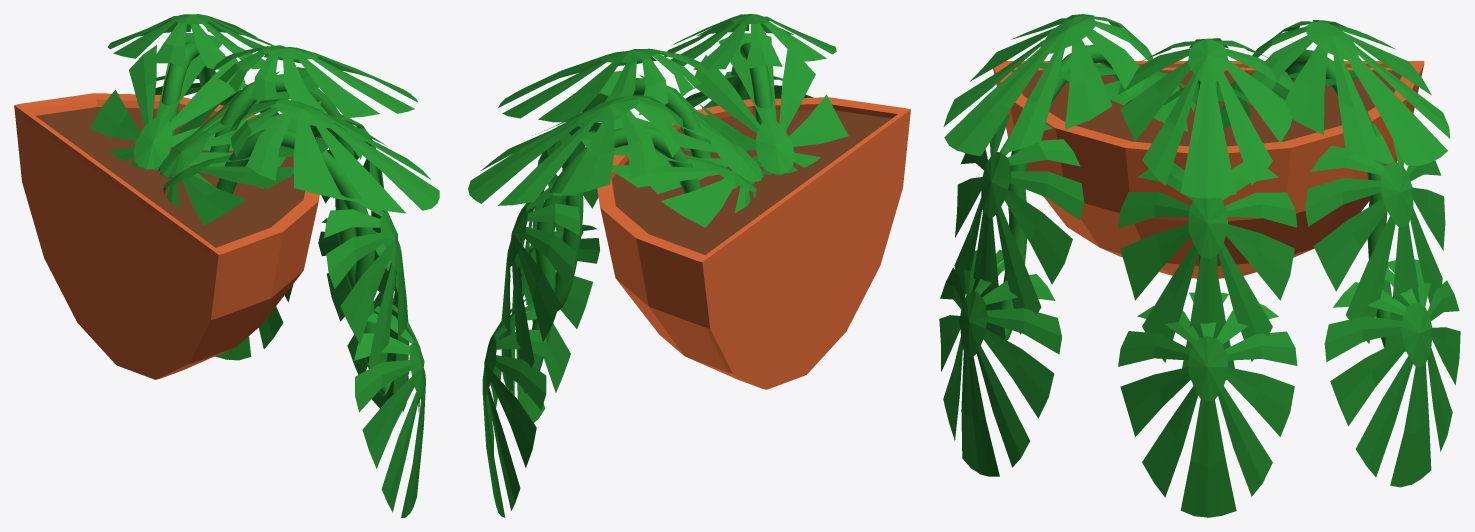
Rendered from Monstera.glb.
3 renders of one model, left to right at view 1: azimuth 30°, elevation 25°; view 2: azimuth 150°, elevation 25°; view 3: azimuth 270°, elevation 25°, orthographic. The views are drawn at different scales.
Visible parts, largest first — view 1: Sphere.051, BézierCurve.010, BézierCurve.009, BézierCurve.011; view 2: Sphere.051, BézierCurve.011, BézierCurve.009, BézierCurve.010; view 3: BézierCurve.009, BézierCurve.011, BézierCurve.010, Sphere.051.
Boxes of the visible parts, x1,y1,x2,y2 form: Sphere.051: (14,93,319,379); BézierCurve.010: (163,99,439,517); BézierCurve.009: (158,45,417,412); BézierCurve.011: (89,14,293,360); Sphere.051: (597,97,910,389); BézierCurve.011: (468,95,757,517); BézierCurve.009: (498,48,763,422); BézierCurve.010: (664,14,848,174); BézierCurve.009: (1118,38,1297,517); BézierCurve.011: (1218,20,1460,487); BézierCurve.010: (939,14,1195,476); Sphere.051: (993,61,1424,278).
Size of the model in its own units: 1.67 by 2.12 by 2.41.
